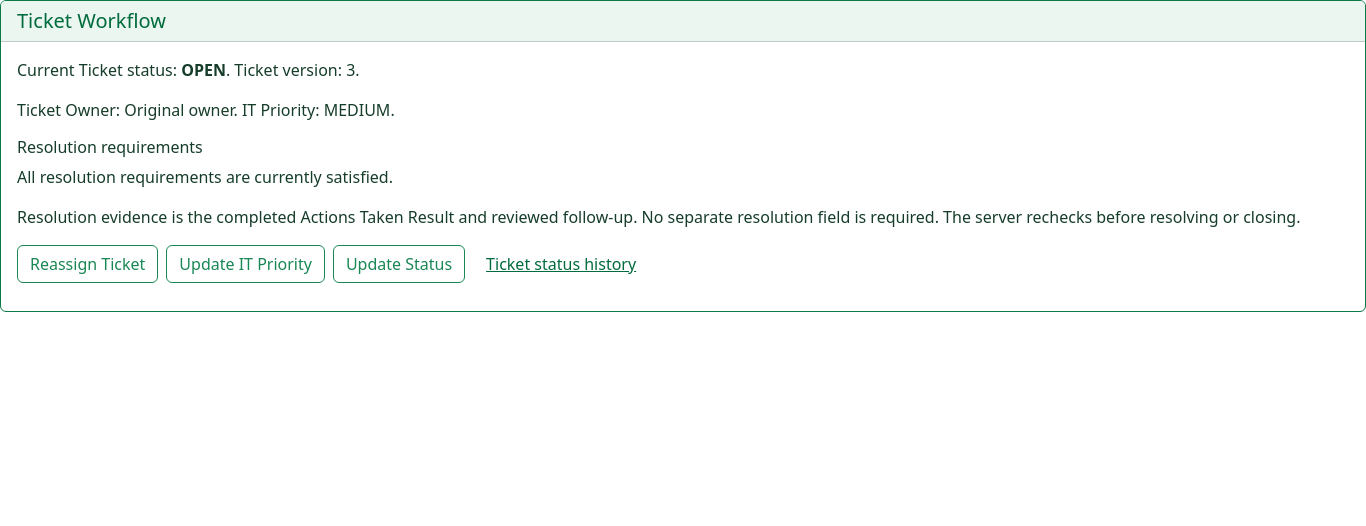
Test: Ticket Workflow component (UI-03, I4 AC-01–06) › guards duplicate submits before the busy render
Click the button "Update Status" at (399, 264), box [333,245,465,283]
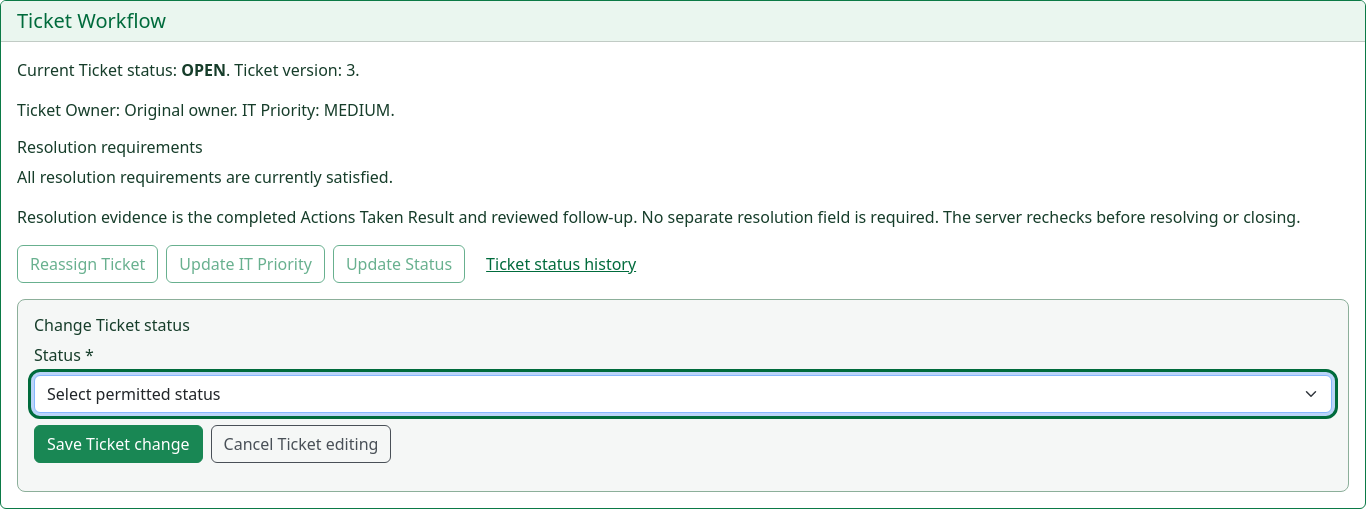
Select "IN PROGRESS" in the dropdown labelled "Status *" at (683, 394), box [34,375,1332,413]
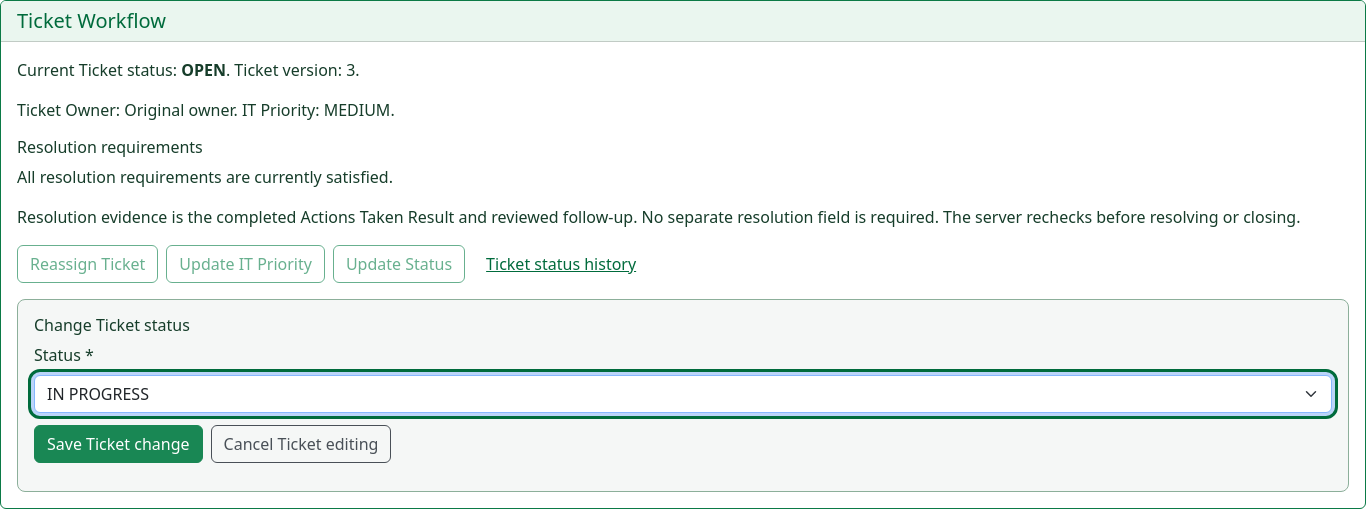
Submit the form named "Ticket workflow editor", box [17,299,1349,492]
Submit the form named "Ticket workflow editor", box [17,299,1349,492]
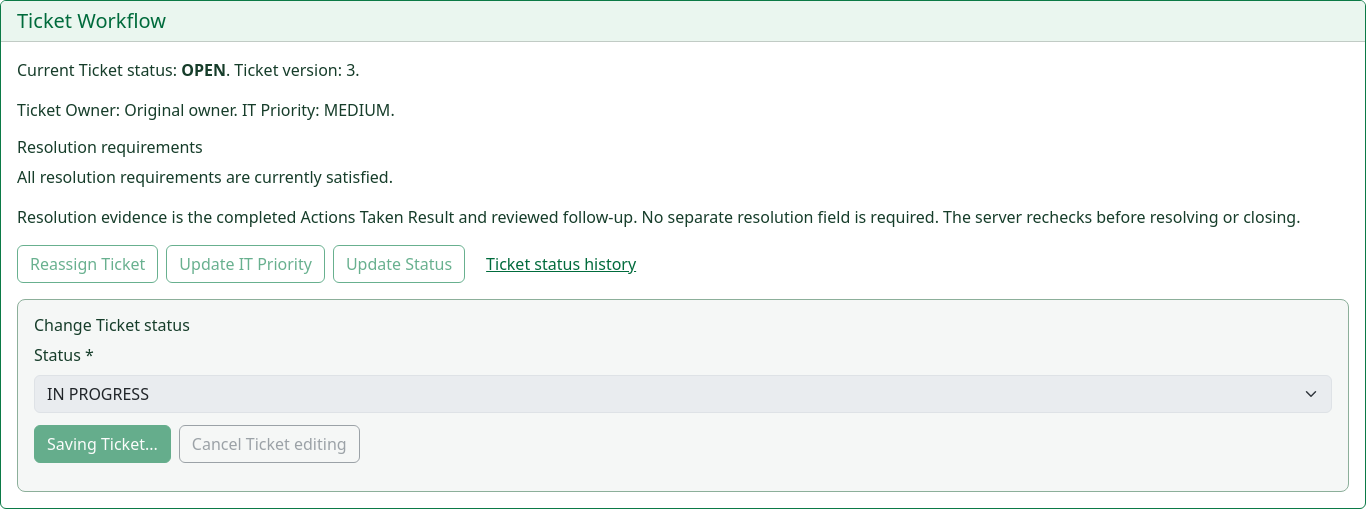
Expected: the button "Saving Ticket..." is disabled, [34,425,171,463]
